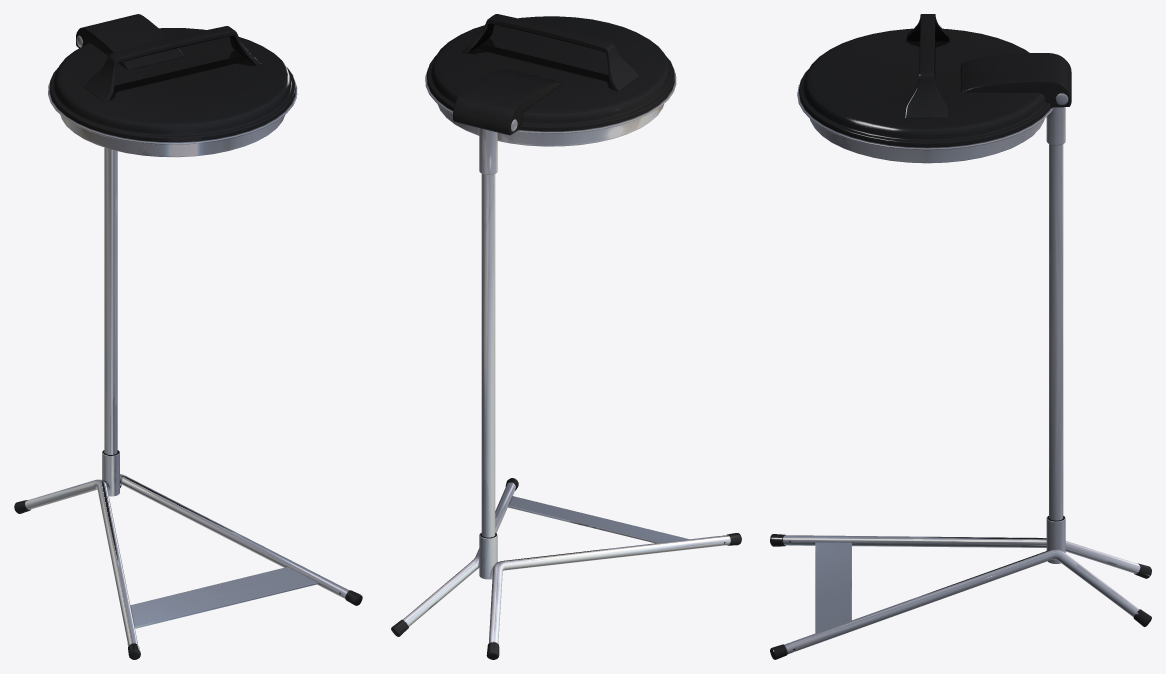
File: jumbo_big_laquered_metal.glb
3 renders of one model, left to right at view 1: azimuth 30°, elevation 25°; view 2: azimuth 150°, elevation 25°; view 3: azimuth 270°, elevation 25°, orthographic. The views are drawn at different scales.
Visible parts, largest first — view 1: jumbo_big-none; view 2: jumbo_big-none; view 3: jumbo_big-none.
Part boxes in pixels (bbox=[...]): jumbo_big-none: bbox=[14, 14, 362, 659]; jumbo_big-none: bbox=[391, 14, 741, 659]; jumbo_big-none: bbox=[770, 14, 1151, 659].
Bounding box in the file's own units: 0.426 × 0.9397 × 0.5798.
1 material, 1 textured.
